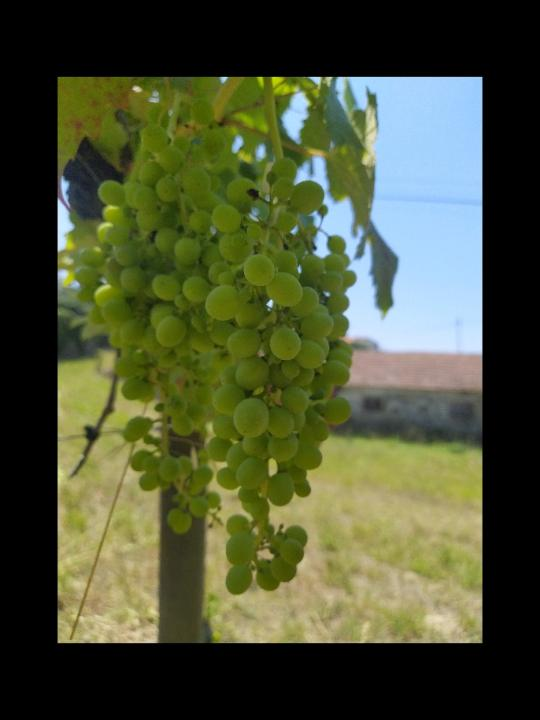grape: (73, 99, 358, 600)
